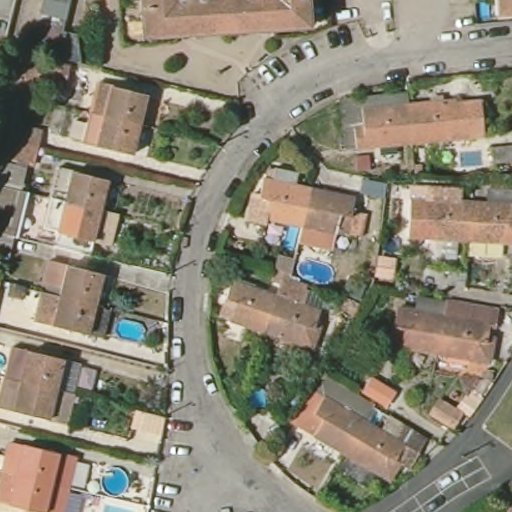pool: (100, 466, 133, 499), (116, 315, 152, 345), (298, 259, 336, 287), (456, 143, 486, 173), (250, 381, 273, 415), (279, 223, 301, 258), (470, 1, 495, 25), (1, 351, 9, 371)
